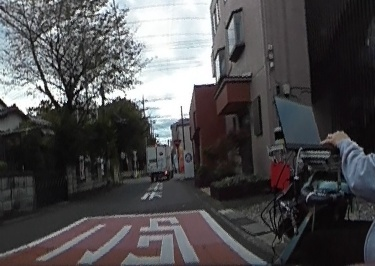person: (316, 32, 375, 266)
